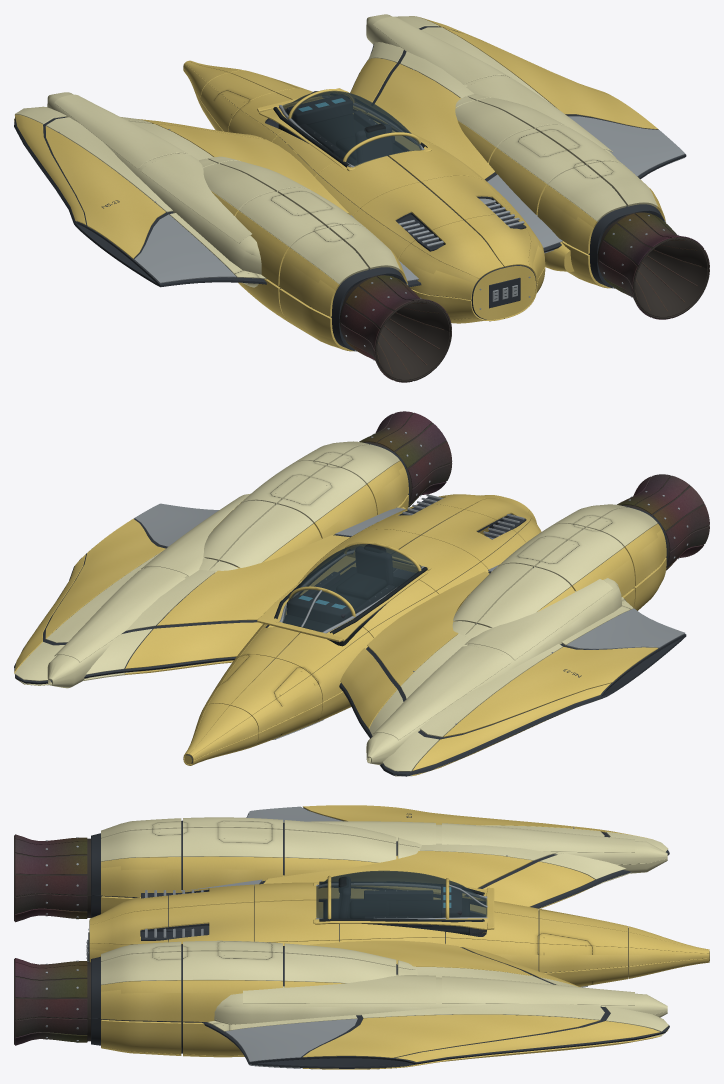
The picture shows the model from 3 angles, top to bottom: view 1: azimuth 30°, elevation 25°; view 2: azimuth 150°, elevation 25°; view 3: azimuth 270°, elevation 25°; orthographic projection.
Parts seen in each view (by area): view 1: Aft pressure bulkhead, Fitted lifting skin.003, Fuselage fitted skin 00.0, Swept inlet guide vane, Sealed avionics connector, Aft avionics recess, Formed heat alloy nozzle petal, Thin laminated canopy glazing, Connector protected contact, Pressure hull substrate; view 2: Aft pressure bulkhead, Fitted lifting skin.003, Fuselage fitted skin 00.0, Aft avionics recess, Formed heat alloy nozzle petal, Thin laminated canopy glazing, Sealed avionics connector, Connector protected contact, Swept inlet guide vane; view 3: Aft pressure bulkhead, Fitted lifting skin.003, Fuselage fitted skin 00.0, Formed heat alloy nozzle petal, Aft avionics recess, Thin laminated canopy glazing, Sealed avionics connector, Connector protected contact, Swept inlet guide vane, Pressure hull substrate.
Part boxes in pixels (x1,y1,x2,y2): Aft pressure bulkhead: [14, 16, 665, 351]; Fitted lifting skin.003: [15, 14, 657, 287]; Fuselage fitted skin 00.0: [228, 88, 545, 300]; Swept inlet guide vane: [339, 212, 709, 381]; Sealed avionics connector: [58, 34, 685, 360]; Aft avionics recess: [14, 26, 686, 351]; Formed heat alloy nozzle petal: [340, 212, 709, 382]; Thin laminated canopy glazing: [282, 91, 421, 166]; Connector protected contact: [273, 107, 516, 299]; Pressure hull substrate: [232, 103, 536, 319]; Aft pressure bulkhead: [14, 461, 666, 775]; Fitted lifting skin.003: [14, 441, 657, 776]; Fuselage fitted skin 00.0: [233, 494, 541, 701]; Aft avionics recess: [14, 442, 686, 776]; Formed heat alloy nozzle petal: [359, 411, 709, 570]; Thin laminated canopy glazing: [282, 544, 421, 632]; Sealed avionics connector: [134, 428, 688, 739]; Connector protected contact: [274, 544, 427, 646]; Swept inlet guide vane: [364, 413, 709, 564]; Aft pressure bulkhead: [101, 805, 709, 1069]; Fitted lifting skin.003: [101, 817, 668, 1037]; Fuselage fitted skin 00.0: [89, 882, 538, 971]; Formed heat alloy nozzle petal: [15, 834, 87, 1045]; Aft avionics recess: [88, 808, 669, 1068]; Thin laminated canopy glazing: [316, 870, 487, 918]; Sealed avionics connector: [45, 806, 587, 1068]; Connector protected contact: [86, 877, 484, 958]; Swept inlet guide vane: [14, 835, 90, 1044]; Pressure hull substrate: [89, 886, 709, 976].
Bounding box in the file's own units: 3.11 × 0.7099 × 3.62.
Materials: 9 (3 with a texture image).
